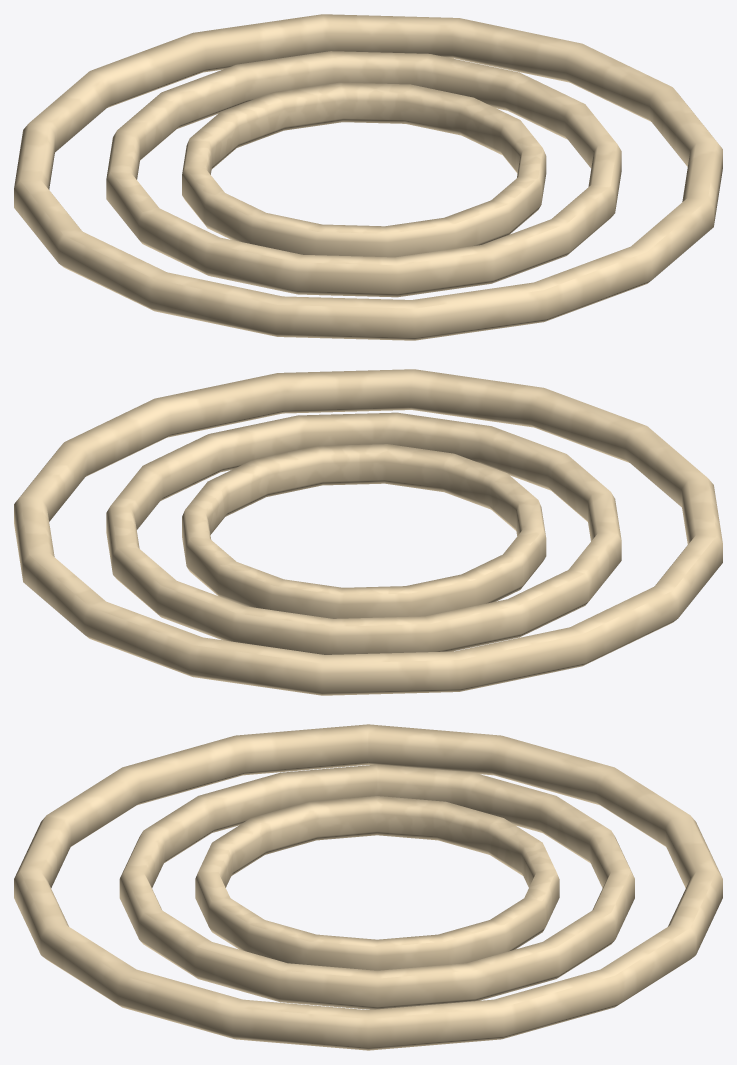
The model's file is WhiteOnion.fbx.
3 views of the same model, one above another, from view 1: azimuth 30°, elevation 25°; view 2: azimuth 150°, elevation 25°; view 3: azimuth 270°, elevation 25° (orthographic).
Parts seen in each view (by area): view 1: Onion Large; view 2: Onion Large; view 3: Onion Large.
Boxes of the visible parts, left/top/right/bottom form: Onion Large: left=14, top=14, right=722, bottom=340; Onion Large: left=14, top=369, right=722, bottom=695; Onion Large: left=14, top=724, right=722, bottom=1050.
Bounding box in the file's own units: 189 × 9.34 × 189.
